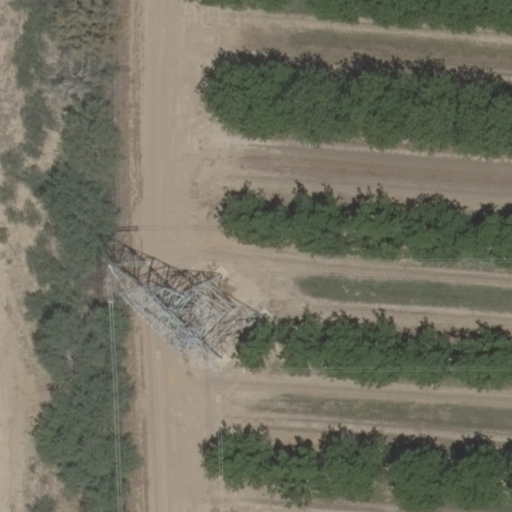TT: (125, 263, 259, 370)
